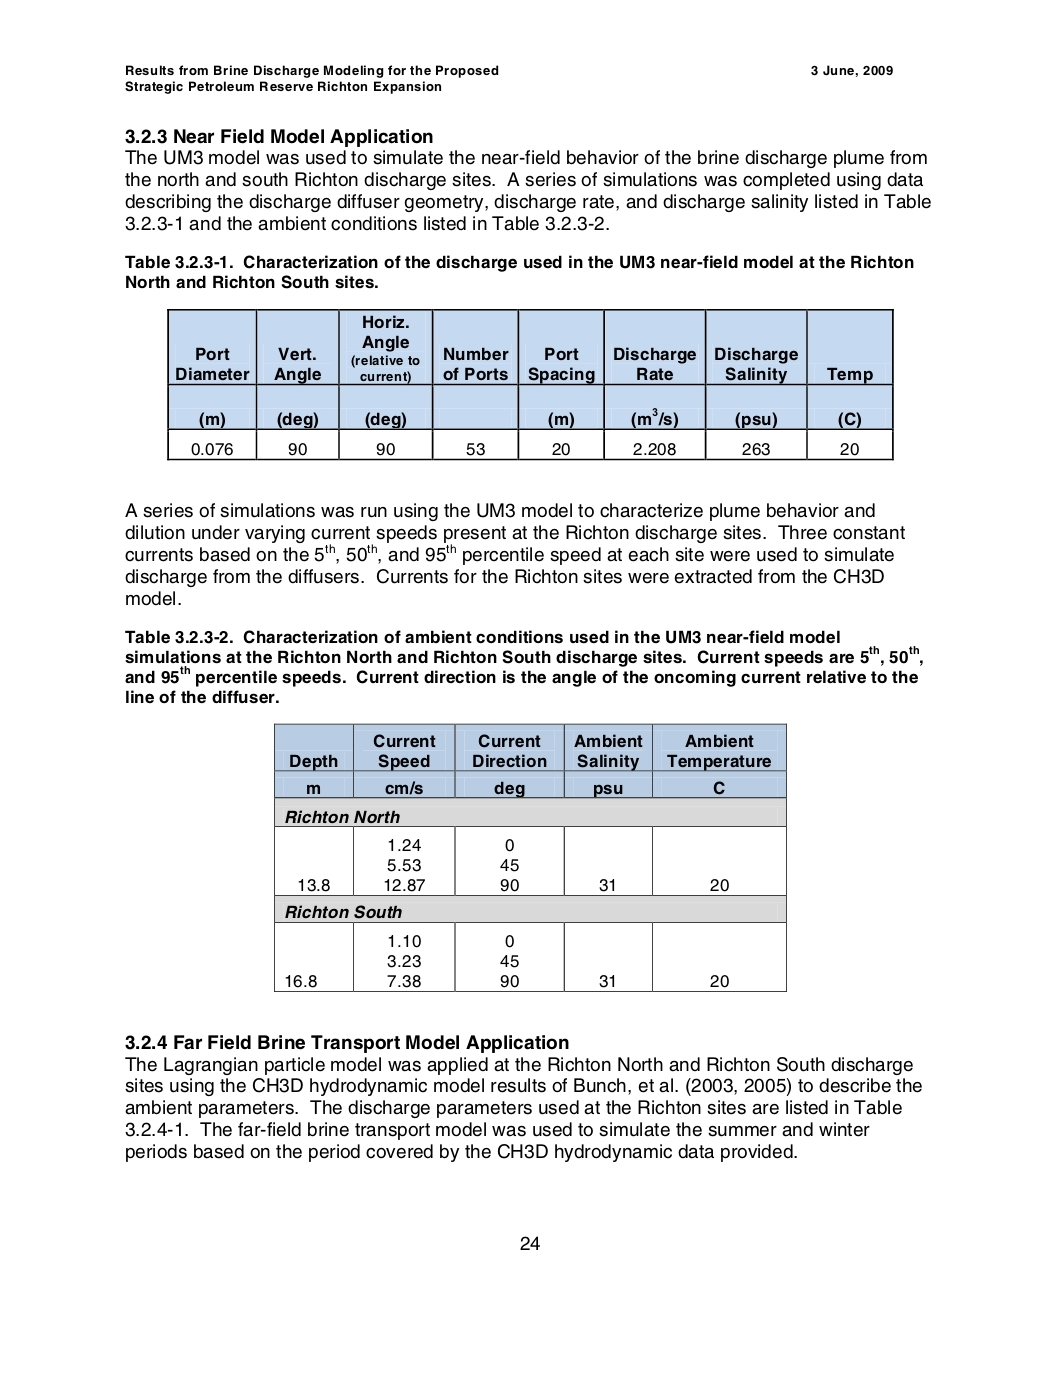Table: (274, 722, 786, 992), (167, 308, 893, 461)
